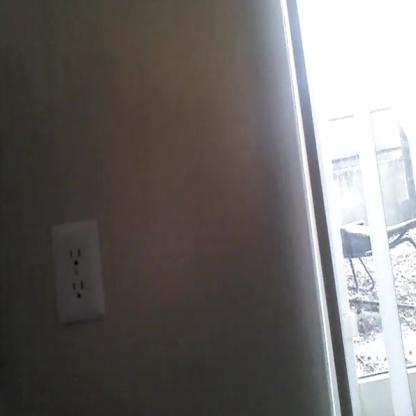OUTLET: (51, 219, 104, 322)
